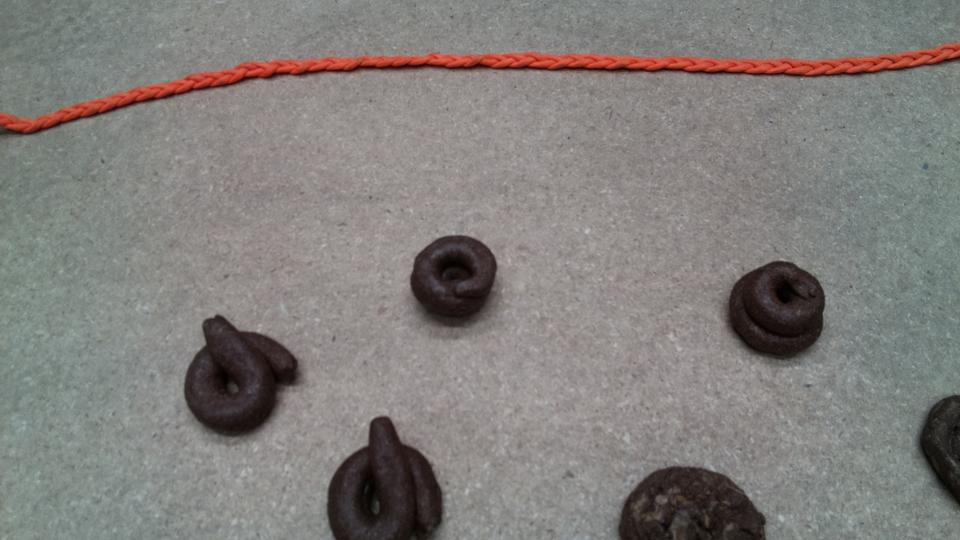poop: (323, 412, 446, 540), (183, 312, 303, 439), (615, 462, 768, 540), (726, 258, 828, 361), (408, 233, 501, 324), (918, 393, 960, 511)
rope: (3, 34, 960, 140)
